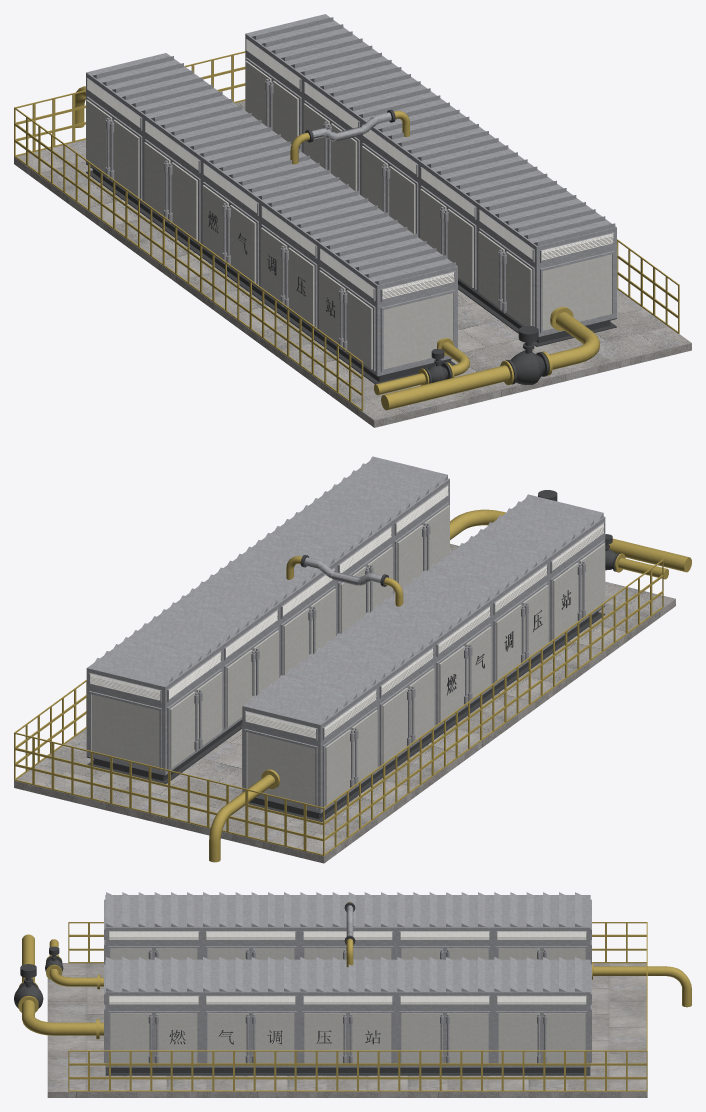
The model's file is 燃气站.glb.
The picture shows the model from 3 angles, top to bottom: view 1: azimuth 30°, elevation 25°; view 2: azimuth 150°, elevation 25°; view 3: azimuth 270°, elevation 25°; orthographic projection. The views are drawn at different scales.
Parts seen in each view (by area): view 1: 燃气站04, 燃气站05, 燃气站07, 燃气站02, 燃气站00; view 2: 燃气站04, 燃气站05, 燃气站07, 燃气站02, 燃气站00; view 3: 燃气站04, 燃气站05, 燃气站07, 燃气站02, 燃气站00.
Boxes of the visible parts, x1,y1,x2,y2 form: 燃气站04: (86,14,616,376); 燃气站05: (86,40,617,369); 燃气站07: (14,101,691,427); 燃气站02: (14,51,679,411); 燃气站00: (86,109,616,384); 燃气站04: (86,456,605,813); 燃气站05: (90,485,605,805); 燃气站07: (14,543,675,863); 燃气站02: (14,509,691,862); 燃气站00: (86,490,620,822); 燃气站04: (104,892,591,1067); 燃气站05: (109,931,586,1063); 燃气站07: (47,963,647,1097); 燃气站02: (18,902,691,1091); 燃气站00: (14,902,590,1075).
Size of the model in its own units: 7.45 by 3.06 by 16.51.
5 materials, 5 textured.
